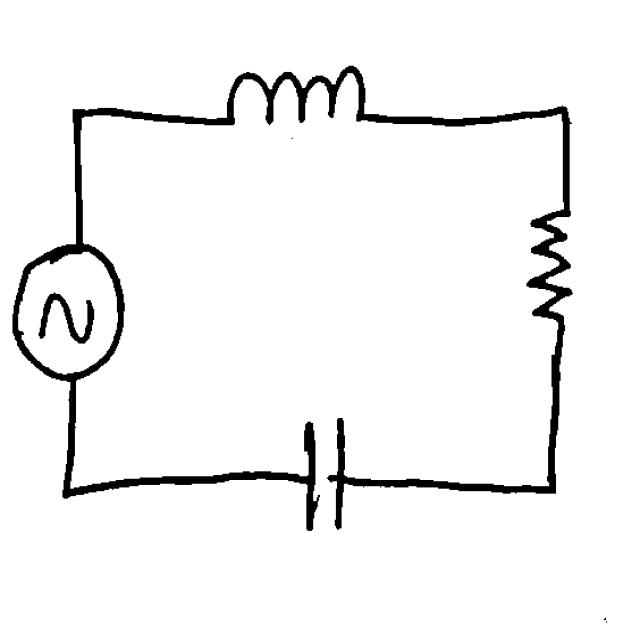ac: (6, 235, 137, 387)
capacitor: (276, 400, 375, 547)
inductor: (204, 54, 394, 148)
resistor: (516, 188, 594, 347)
